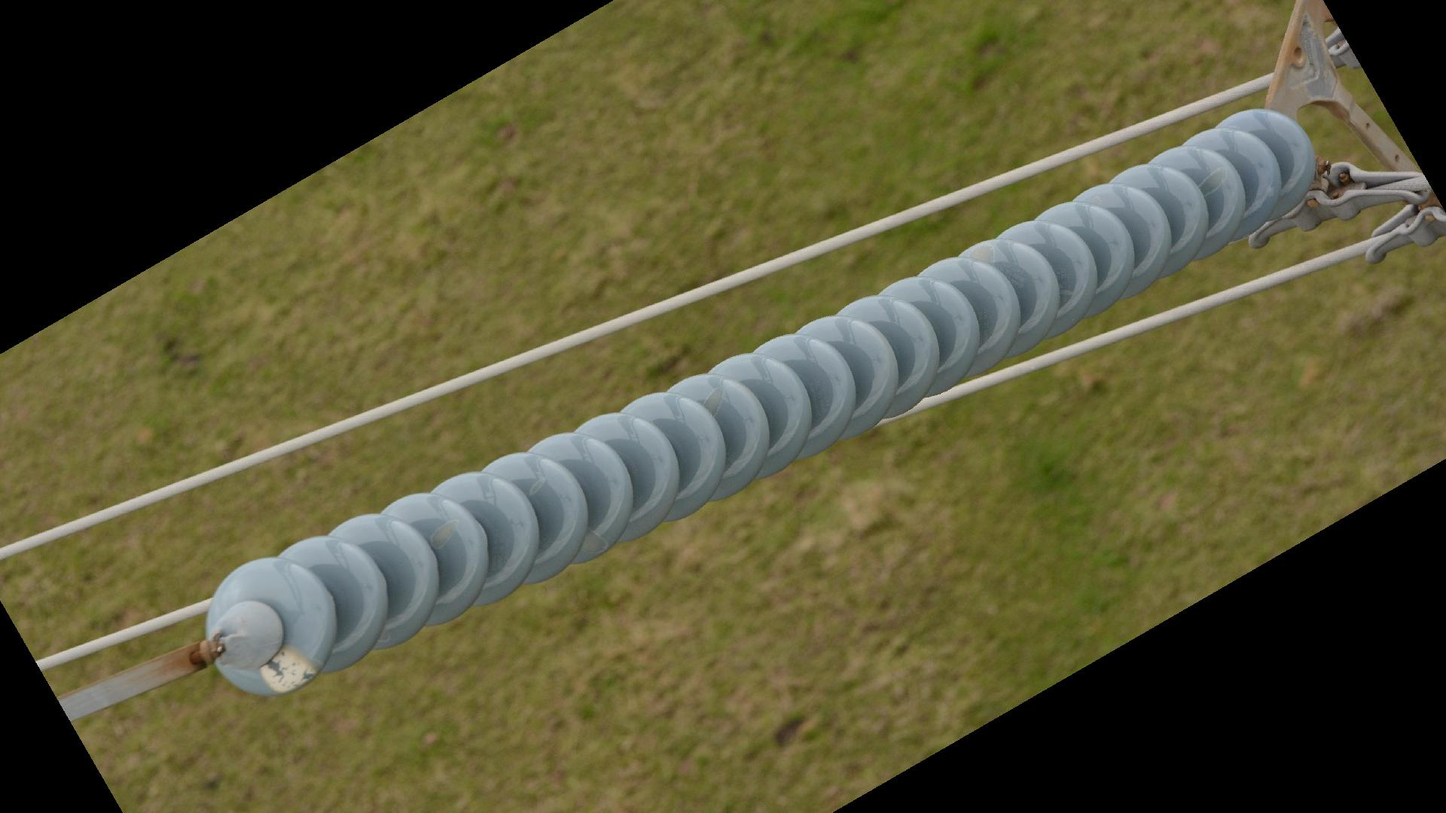insulator: (199, 103, 1326, 705)
insulator_flashover: (255, 643, 323, 698)
